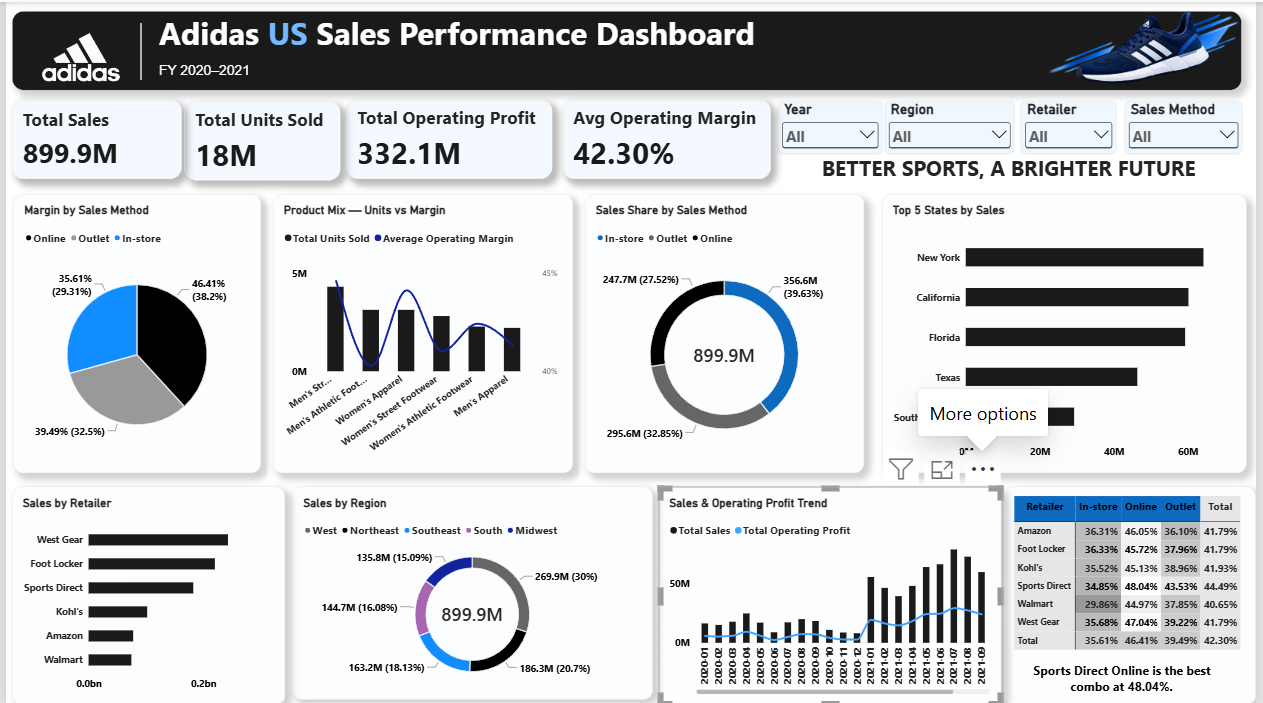

What the dashboard file says about the page in this screenshot:
{"tool":"powerbi","page":{"name":"Page 1","canvas":[1920,1080],"ordinal":0},"visuals":[{"type":"textbox","box":[9.2,13.8,1889.7,122.1],"z":0},{"type":"cardVisual","fields":{"Data":["Data Sales Adidas.Total Sales"]},"box":[9.2,149.8,260.4,122.1],"z":1000},{"type":"cardVisual","fields":{"Data":["Data Sales Adidas.Total Units Sold"]},"box":[274.2,152.1,239.7,122.1],"z":2000},{"type":"cardVisual","fields":{"Data":["Sum(Data Sales Adidas.Operating Profit)"]},"box":[523.1,149.8,315.7,122.1],"z":3000},{"type":"cardVisual","fields":{"Data":["Data Sales Adidas.Average Operating Margin"]},"box":[855,149.8,320.3,122.1],"z":4000},{"type":"image","box":[0,0,230.4,172.8],"z":5000},{"type":"image","box":[1599.3,0,299.6,131.4],"z":6000},{"type":"textbox","box":[235.1,92.2,156.7,36.9],"z":7000},{"type":"shape","box":[140.6,32.3,133.7,87.6],"z":8000},{"type":"slicer","fields":{"Values":["DateTable.Year"]},"box":[1186.8,152.1,159,80.7],"z":9000},{"type":"slicer","fields":{"Values":["Data Sales Adidas.Region"]},"box":[1350.4,152.1,198.2,80.7],"z":10000},{"type":"slicer","fields":{"Values":["Data Sales Adidas.Retailer"]},"box":[1560.1,152.1,145.2,80.7],"z":11000},{"type":"slicer","fields":{"Values":["Data Sales Adidas.Sales Method"]},"box":[1719.1,152.1,179.7,80.7],"z":12000},{"type":"lineClusteredColumnComboChart","title":"Sales & Operating Profit Trend","fields":{"Category":["DateTable.Year Month"],"Y":["Data Sales Adidas.Total Sales"],"Y2":["Data Sales Adidas.Total Operating Profit"]},"box":[1002.4,744.3,527.7,336.5],"z":13000},{"type":"clusteredBarChart","title":"Sales by Retailer","fields":{"Category":["Data Sales Adidas.Retailer"],"Y":["Data Sales Adidas.Total Sales"]},"box":[9.2,744.3,419.4,336.5],"z":14000},{"type":"donutChart","title":"Sales by Region","fields":{"Category":["Data Sales Adidas.Region"],"Y":["Data Sales Adidas.Total Sales"]},"box":[440.2,744.3,553.1,327.2],"z":15000},{"type":"barChart","title":"Top 5 States by Sales","fields":{"Category":["Data Sales Adidas.State"],"Y":["Data Sales Adidas.Total Sales"]},"box":[1345.8,295,560,428.6],"z":16000},{"type":"lineClusteredColumnComboChart","title":"Product Mix — Units vs Margin","fields":{"Category":["Data Sales Adidas.Product"],"Y":["Data Sales Adidas.Total Units Sold"],"Y2":["Data Sales Adidas.Average Operating Margin"]},"box":[410.2,295,460.9,428.6],"z":17000},{"type":"donutChart","title":"Sales Share by Sales Method","fields":{"Category":["Data Sales Adidas.Sales Method"],"Y":["Data Sales Adidas.Total Sales"]},"box":[889.5,295,428.6,428.6],"z":18000},{"type":"pieChart","title":"Margin by Sales Method","fields":{"Category":["Data Sales Adidas.Sales Method"],"Y":["Data Sales Adidas.Average Operating Margin"]},"box":[11.5,295,380.2,428.6],"z":19000},{"type":"pivotTable","fields":{"Columns":["Data Sales Adidas.Sales Method"],"Rows":["Data Sales Adidas.Retailer"],"Values":["Data Sales Adidas.Average Operating Margin"]},"box":[1532.5,744.3,387.1,336.5],"z":20000},{"type":"textbox","box":[1244.4,232.8,608.4,62.2],"z":21000},{"type":"textbox","box":[1578.6,1014,301.9,50.7],"z":21001}]}

Visuals, with their boxes in screenshot pixels (x1, y1, x2, y2), scaled from the page's 1920x1080 canvas onto the 1263x703 screenshot:
textbox: region(6, 9, 1249, 88)
cardVisual - Data Sales Adidas.Total Sales: region(6, 98, 177, 177)
cardVisual - Data Sales Adidas.Total Units Sold: region(180, 99, 338, 178)
cardVisual - Sum(Data Sales Adidas.Operating Profit): region(344, 98, 552, 177)
cardVisual - Data Sales Adidas.Average Operating Margin: region(562, 98, 773, 177)
image: region(0, 0, 152, 112)
image: region(1052, 0, 1249, 86)
textbox: region(155, 60, 258, 84)
shape: region(92, 21, 180, 78)
slicer - DateTable.Year: region(781, 99, 885, 152)
slicer - Data Sales Adidas.Region: region(888, 99, 1019, 152)
slicer - Data Sales Adidas.Retailer: region(1026, 99, 1122, 152)
slicer - Data Sales Adidas.Sales Method: region(1131, 99, 1249, 152)
"Sales & Operating Profit Trend" lineClusteredColumnComboChart: region(659, 484, 1007, 702)
"Sales by Retailer" clusteredBarChart: region(6, 484, 282, 702)
"Sales by Region" donutChart: region(290, 484, 653, 697)
"Top 5 States by Sales" barChart: region(885, 192, 1254, 471)
"Product Mix — Units vs Margin" lineClusteredColumnComboChart: region(270, 192, 573, 471)
"Sales Share by Sales Method" donutChart: region(585, 192, 867, 471)
"Margin by Sales Method" pieChart: region(8, 192, 258, 471)
pivotTable - Data Sales Adidas.Sales Method x Data Sales Adidas.Retailer: region(1008, 484, 1262, 702)
textbox: region(819, 152, 1219, 192)
textbox: region(1038, 660, 1237, 693)
